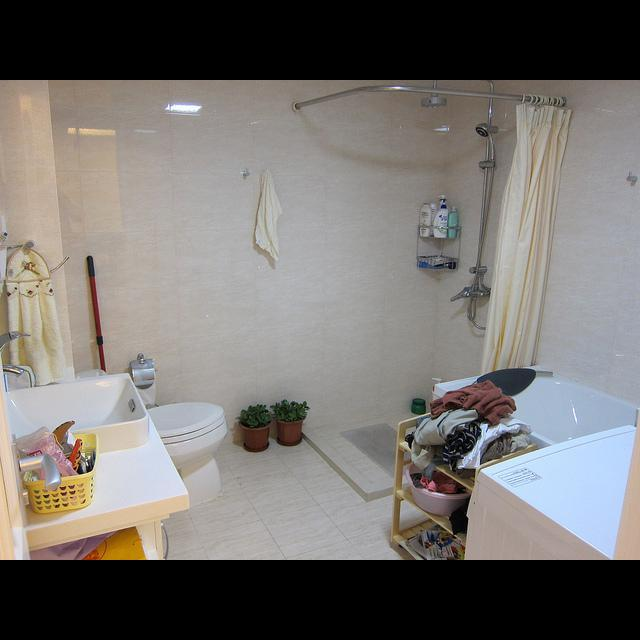Washing-Machine: (458, 428, 640, 560)
